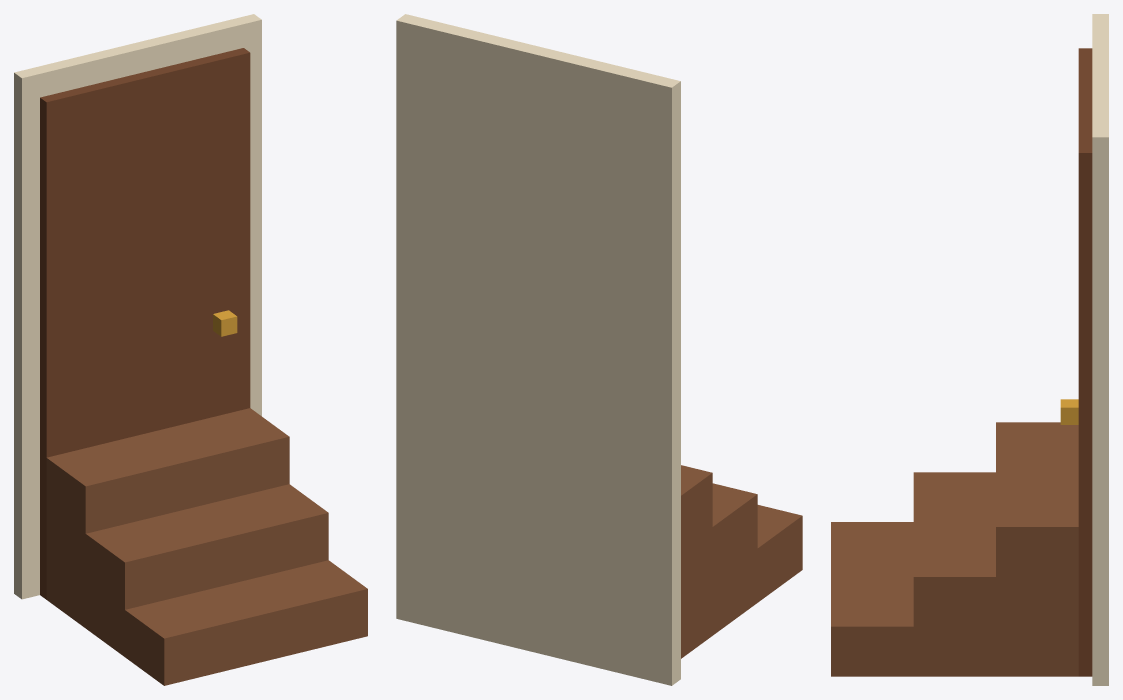
File: basement_exit.glb
3 renders of one model, left to right at view 1: azimuth 30°, elevation 25°; view 2: azimuth 150°, elevation 25°; view 3: azimuth 270°, elevation 25°, orthographic. The views are drawn at different scales.
Parts seen in each view (by area): view 1: Box1, Box2, Box6, Box5, Box4, Box3; view 2: Box2, Box5, Box6, Box4; view 3: Box6, Box5, Box4, Box2, Box1, Box3.
Part boxes in pixels (x1,y1,x2,y2): Box1: (40, 48, 250, 599); Box2: (14, 14, 261, 599); Box6: (46, 408, 289, 627); Box5: (85, 484, 328, 656); Box4: (125, 560, 367, 685); Box3: (213, 310, 237, 336); Box2: (396, 14, 680, 685); Box5: (712, 483, 757, 635); Box6: (681, 465, 712, 658); Box4: (757, 505, 802, 602); Box6: (996, 422, 1078, 676); Box5: (913, 472, 995, 676); Box4: (831, 522, 913, 676); Box2: (1092, 14, 1108, 685); Box1: (1078, 48, 1092, 676); Box3: (1060, 399, 1078, 424).
Bounding box in the file's own units: 1.06 × 2.2 × 1.01.
